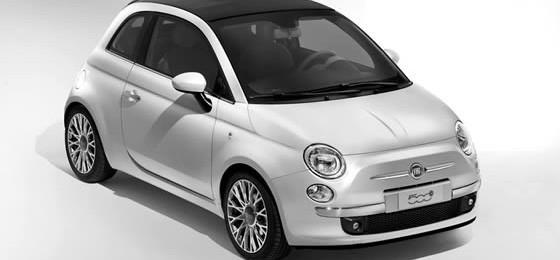car: (64, 1, 484, 260)
